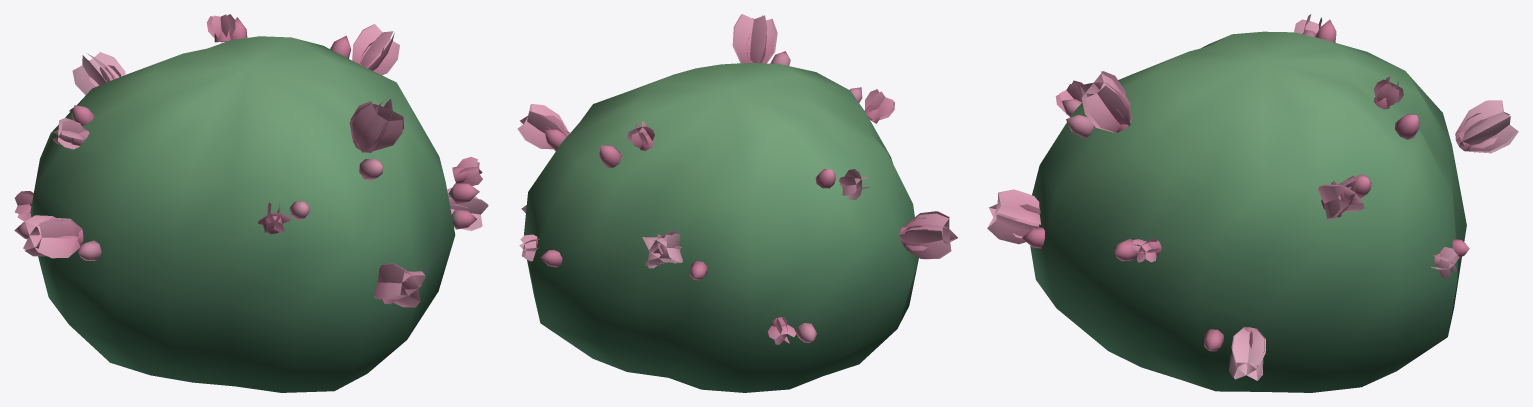
File: rose_pink.glb
3 renders of one model, left to right at view 1: azimuth 30°, elevation 25°; view 2: azimuth 150°, elevation 25°; view 3: azimuth 270°, elevation 25°, orthographic. The views are drawn at different scales.
Parts seen in each view (by area): view 1: rose_pink; view 2: rose_pink; view 3: rose_pink.
Boxes of the visible parts, x1,y1,x2,y2 form: rose_pink: [14, 14, 488, 392]; rose_pink: [517, 14, 957, 392]; rose_pink: [987, 14, 1518, 392].
Size of what is drawn, in the model's own units: 1.92 by 1.1 by 1.89.
